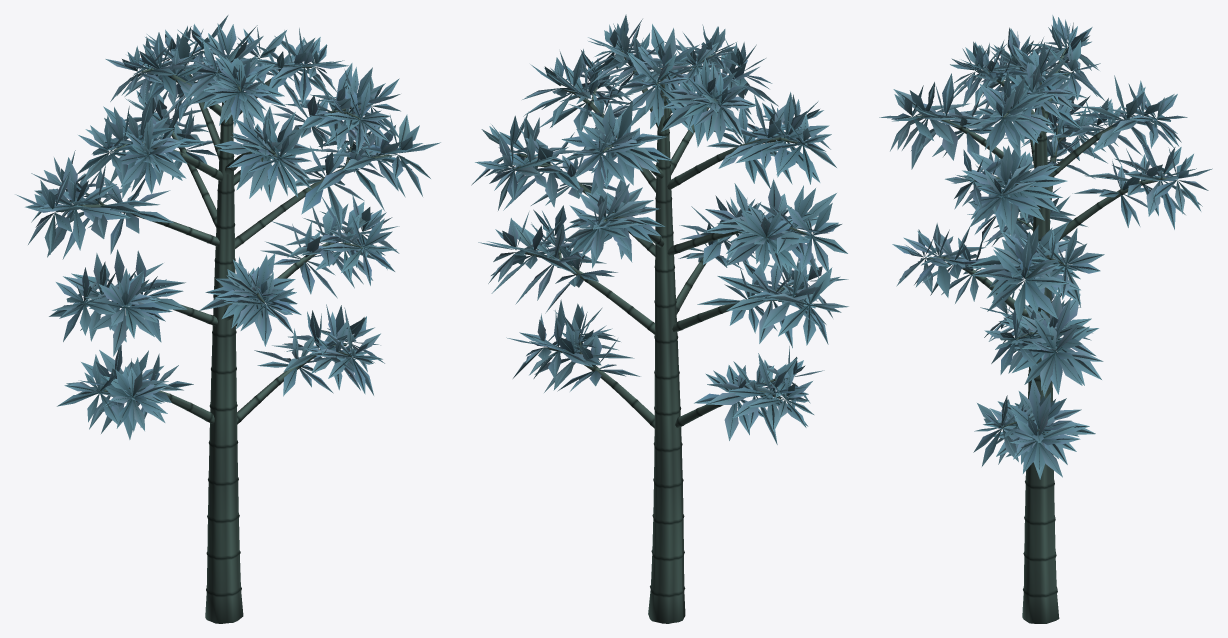
The model's file is alien_tree.glb.
The picture shows the model from 3 angles, left to right: view 1: azimuth 30°, elevation 25°; view 2: azimuth 150°, elevation 25°; view 3: azimuth 270°, elevation 25°; orthographic projection. The views are drawn at different scales.
Visible parts, largest first — view 1: Blue_Alien_Tree; view 2: Blue_Alien_Tree; view 3: Blue_Alien_Tree.
Boxes of the visible parts, x1,y1,x2,y2 form: Blue_Alien_Tree: [15, 15, 440, 623]; Blue_Alien_Tree: [471, 14, 848, 623]; Blue_Alien_Tree: [879, 15, 1212, 623].
Size of the model in its own units: 3.1 by 4.45 by 2.34.
